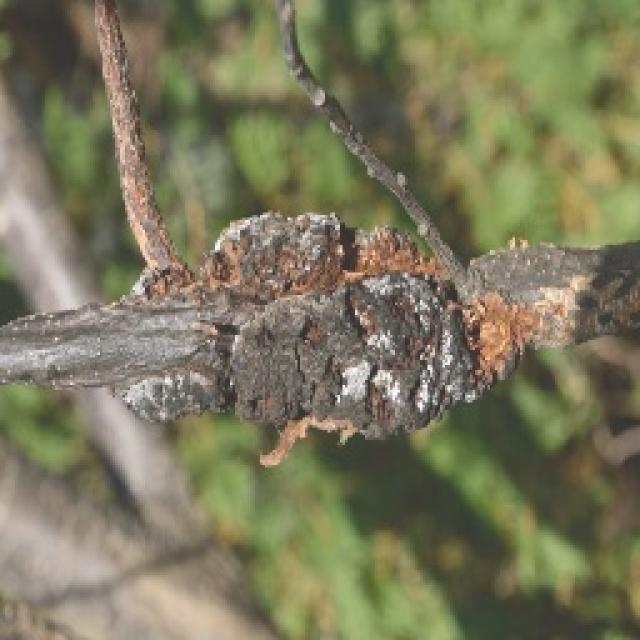Black_knot: (87, 203, 530, 454)
